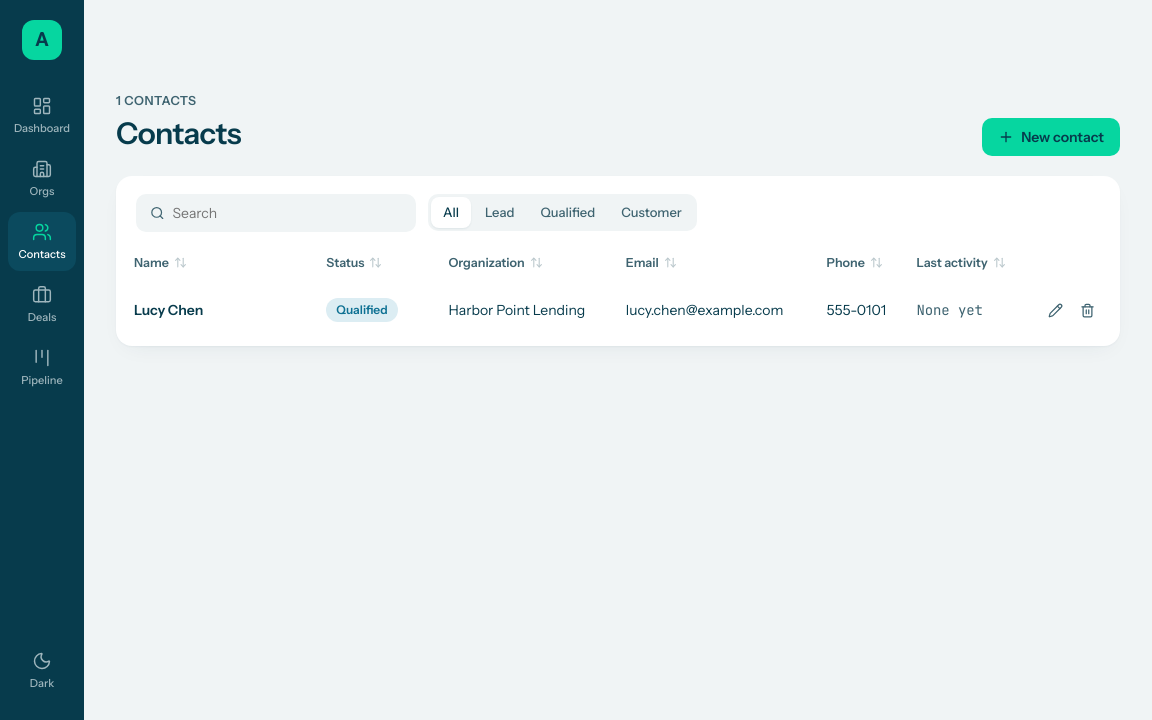
Test: the contacts list › keeps the form open and shows the server's reason when saving fails
What coordinates should you click on to do the following:
click the button named "Edit Lucy Chen"
I would click on:
 (1055, 310)
Its box is left=1040, top=295, right=1070, bottom=325.
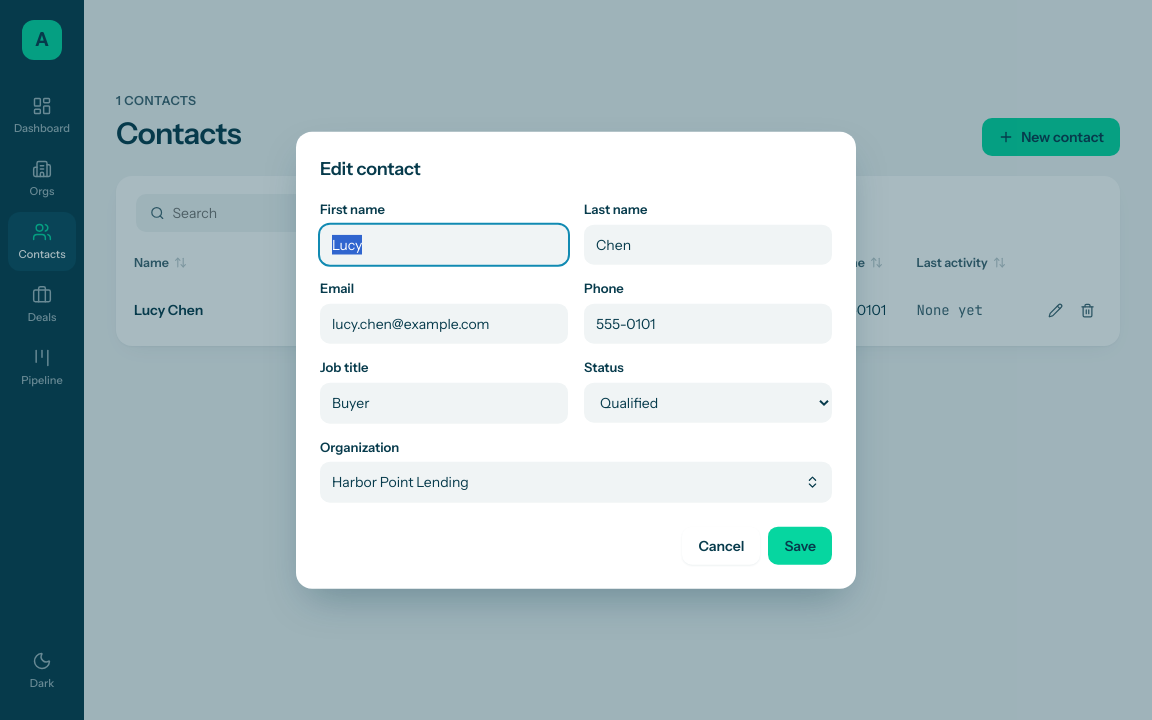
What coordinates should you click on to do the following:
click the button "Save"
I would click on:
 (800, 545)
Its box is left=768, top=526, right=832, bottom=564.
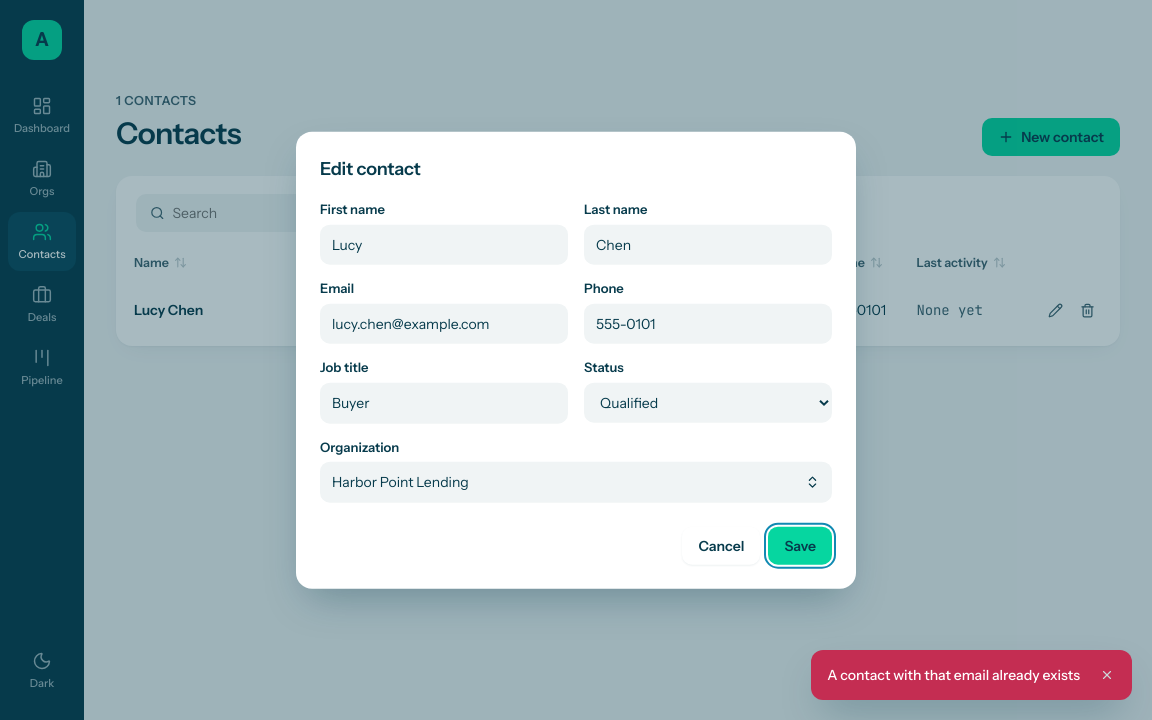
Result: the dialog "Edit contact" is shown at left=296, top=132, right=856, bottom=588
Result: the text "A contact with that email already exists" is shown at left=827, top=665, right=1080, bottom=685
